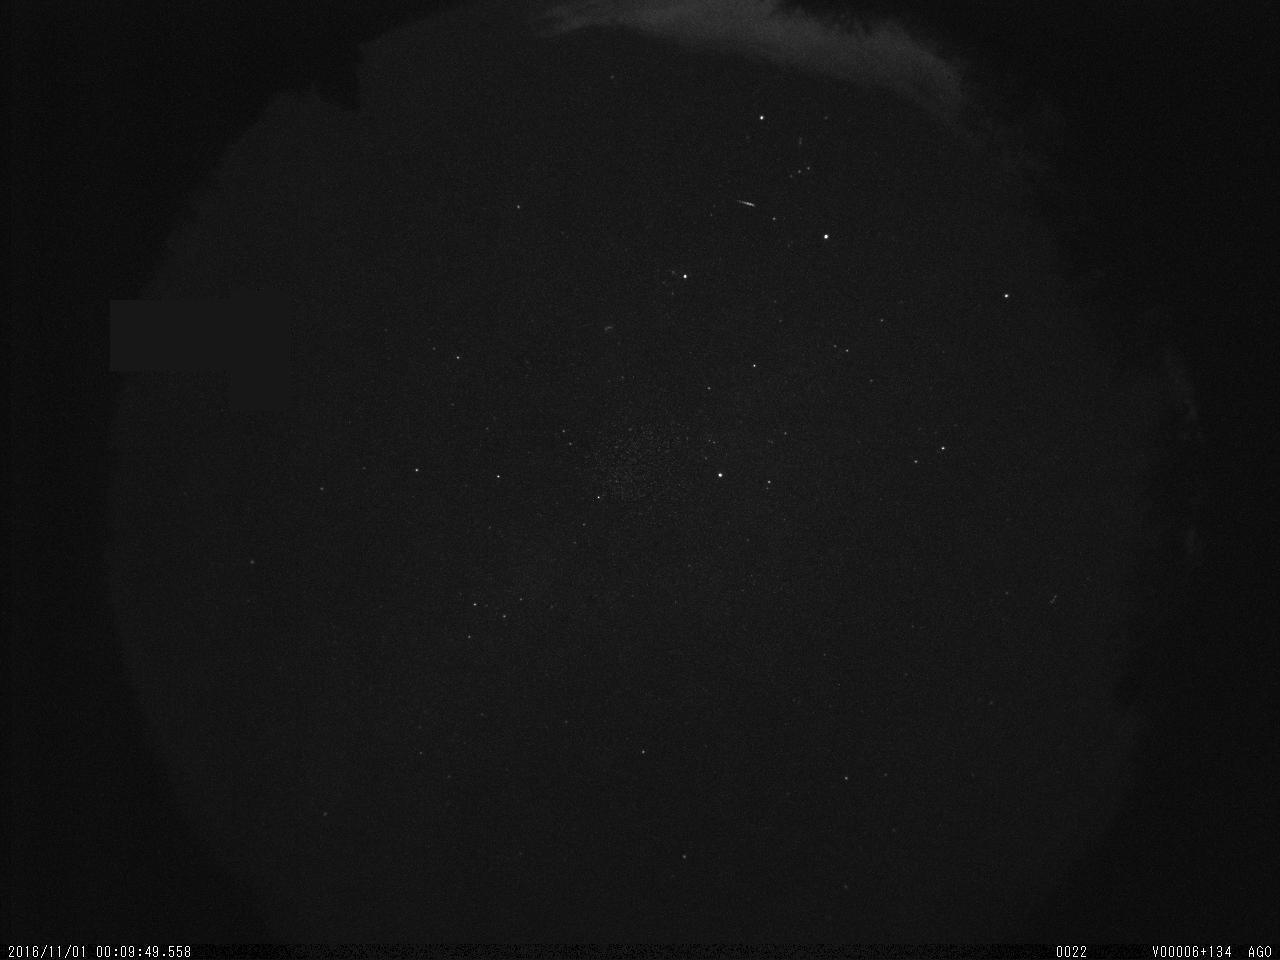Meteor: (733, 196, 759, 209)
